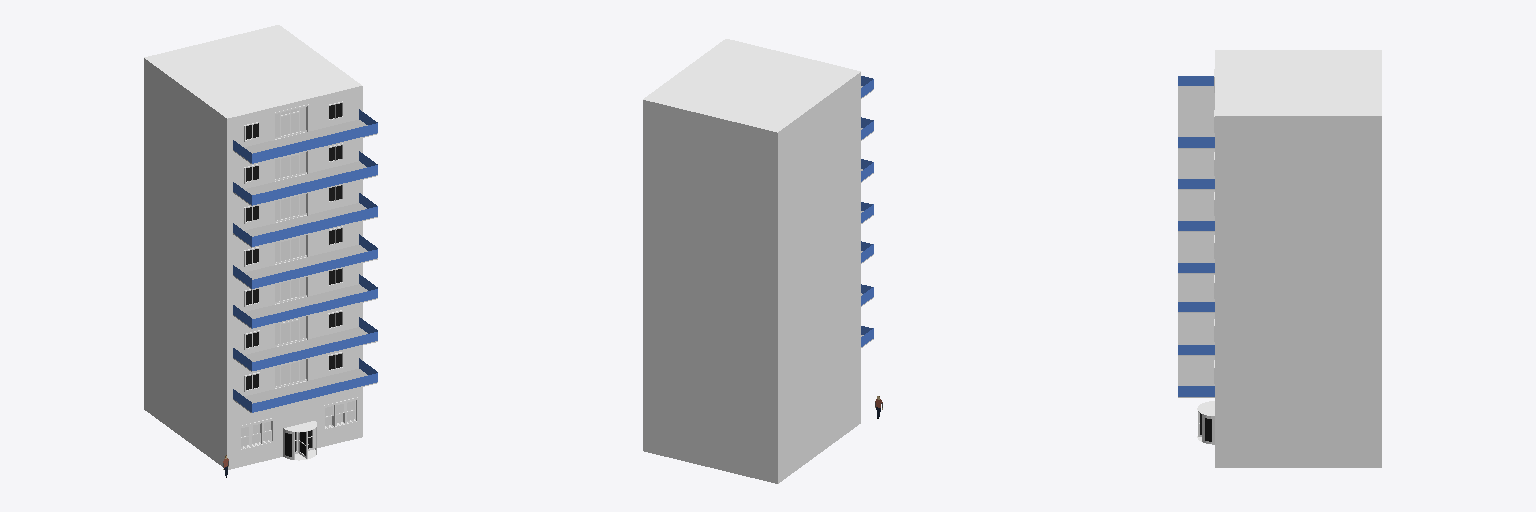
The model's file is demo3.obg.obj.
3 views of the same model, side by side, from view 1: azimuth 30°, elevation 25°; view 2: azimuth 150°, elevation 25°; view 3: azimuth 270°, elevation 25° (orthographic).
Parts seen in each view (by area): view 1: Mesh38 building1 Model, Mesh15 Door_Glass_Double_Sidelights1 building1 Model, Mesh34 Window_3lite_8__6x5__4_1 building1 Model, Mesh35 Window_3lite_8__6x5__4_2 building1 Model, Mesh20 Door_Glass_Double_Sidelights6 building1 Model, Mesh18 Door_Glass_Double_Sidelights4 building1 Model, Mesh16 Door_Glass_Double_Sidelights2 building1 Model, Mesh17 Door_Glass_Double_Sidelights3 building1 Model, Mesh21 Door_Glass_Double_Sidelights7 building1 Model, Mesh14 DoorRevolving1 building1 Model, Mesh19 Door_Glass_Double_Sidelights5 building1 Model; view 2: Mesh38 building1 Model; view 3: Mesh38 building1 Model.
Boxes of the visible parts, x1=… form: Mesh38 building1 Model: x1=144, y1=25, x2=377, y2=469; Mesh15 Door_Glass_Double_Sidelights1 building1 Model: x1=273, y1=104, x2=308, y2=140; Mesh34 Window_3lite_8__6x5__4_1 building1 Model: x1=323, y1=397, x2=357, y2=430; Mesh35 Window_3lite_8__6x5__4_2 building1 Model: x1=240, y1=418, x2=273, y2=450; Mesh20 Door_Glass_Double_Sidelights6 building1 Model: x1=273, y1=316, x2=308, y2=347; Mesh18 Door_Glass_Double_Sidelights4 building1 Model: x1=273, y1=235, x2=308, y2=265; Mesh16 Door_Glass_Double_Sidelights2 building1 Model: x1=273, y1=151, x2=308, y2=181; Mesh17 Door_Glass_Double_Sidelights3 building1 Model: x1=273, y1=193, x2=308, y2=223; Mesh21 Door_Glass_Double_Sidelights7 building1 Model: x1=273, y1=359, x2=308, y2=389; Mesh14 DoorRevolving1 building1 Model: x1=283, y1=421, x2=316, y2=460; Mesh19 Door_Glass_Double_Sidelights5 building1 Model: x1=273, y1=276, x2=308, y2=304; Mesh38 building1 Model: x1=643, y1=39, x2=873, y2=483; Mesh38 building1 Model: x1=1178, y1=50, x2=1381, y2=467.
Bounding box in the file's own units: 11.85 × 26.8 × 14.15.